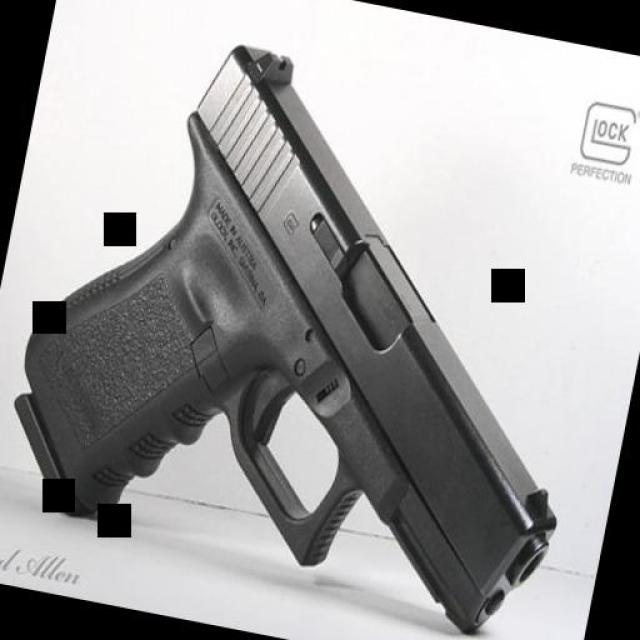gun: (0, 11, 632, 640)
